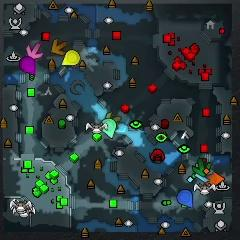p1: (176, 190, 193, 210)
p2: (101, 118, 117, 138)
p3: (19, 56, 37, 75)
p4: (61, 50, 80, 66)
p5: (206, 170, 226, 186)
x1: (26, 43, 45, 60)
x2: (105, 113, 123, 122)
x3: (194, 172, 209, 183)
x4: (192, 157, 211, 176)
x5: (51, 38, 68, 57)
